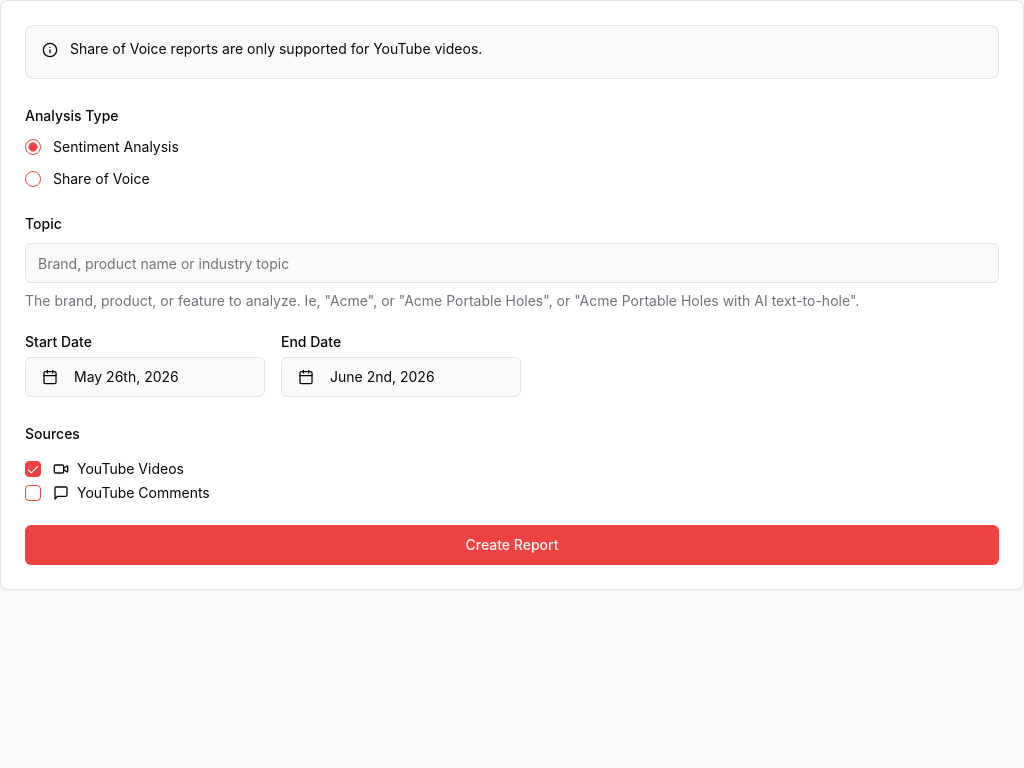
Test case: CreateReportForm › should disable the submit button during submission
Type "A valid topic" into the field labelled "Topic" at (512, 263), box [25,243,999,283]
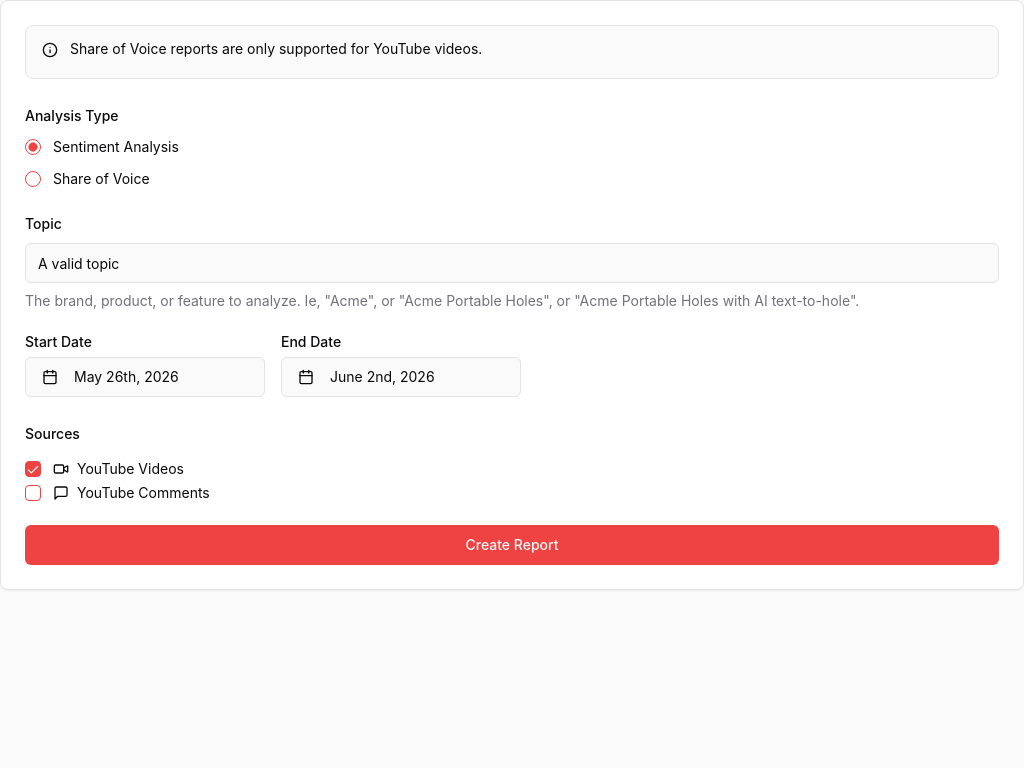
Click the button "Create Report" at (512, 545), box [25,525,999,565]
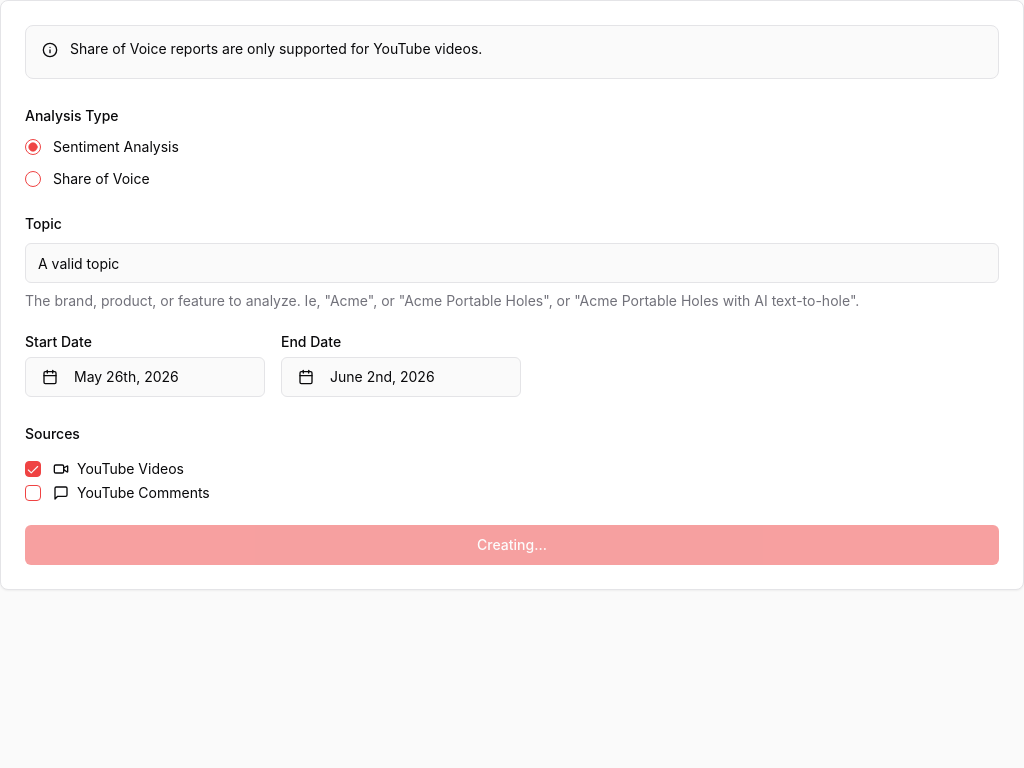
Now the button "Creating..." is disabled, box [25,525,999,565]
